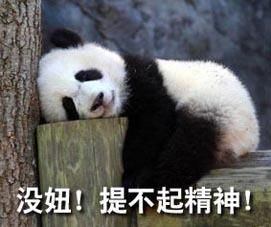panda: (37, 23, 262, 193)
